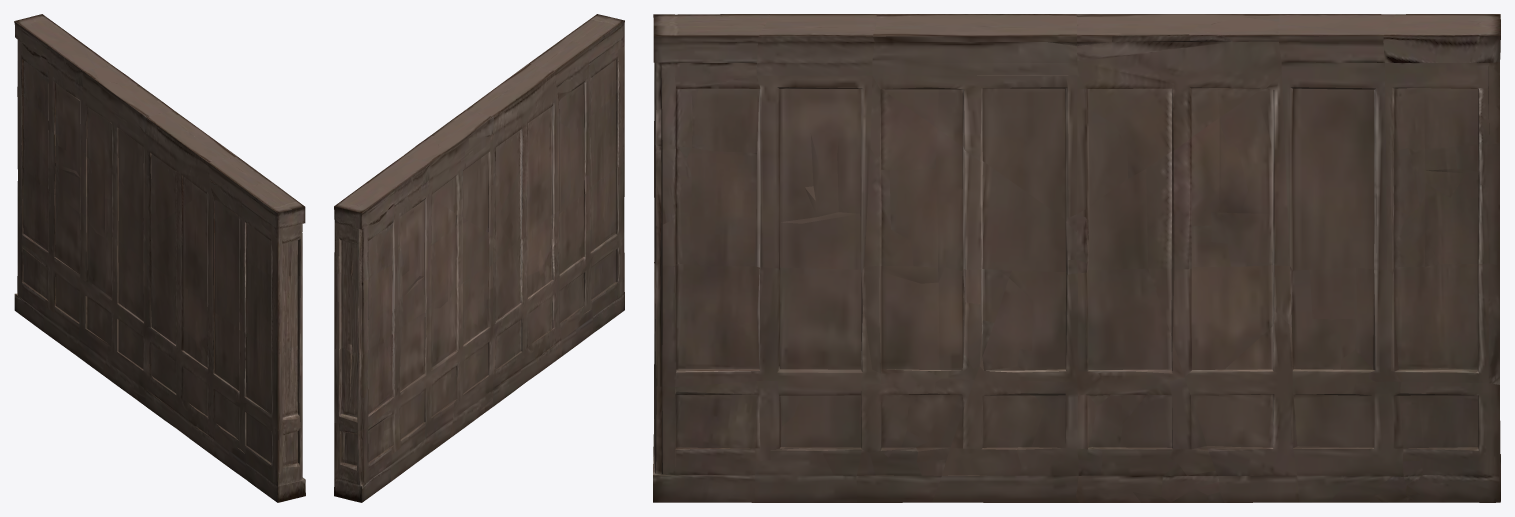
Rendered from SM_MuHuBan_A000C_VTWElementLookDev_1ac951.glb.
The picture shows the model from 3 angles, left to right: view 1: azimuth 30°, elevation 25°; view 2: azimuth 150°, elevation 25°; view 3: azimuth 270°, elevation 25°; orthographic projection. The views are drawn at different scales.
Parts seen in each view (by area): view 1: SM_MuHuBan_A000C_VTWElementLookDev; view 2: SM_MuHuBan_A000C_VTWElementLookDev; view 3: SM_MuHuBan_A000C_VTWElementLookDev.
Boxes of the visible parts, box(x1,y1,x2,y2) form: SM_MuHuBan_A000C_VTWElementLookDev: box(14, 14, 305, 502); SM_MuHuBan_A000C_VTWElementLookDev: box(334, 14, 624, 502); SM_MuHuBan_A000C_VTWElementLookDev: box(653, 14, 1500, 502).
Bounding box in the file's own units: 0.1249 × 1.2 × 1.98.
1 material, 1 textured.
